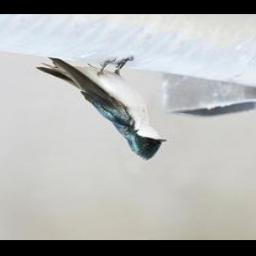Swallow: (35, 53, 169, 163)
